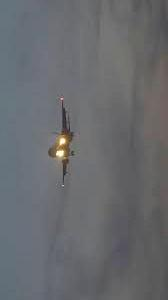Plane: (43, 91, 81, 206)
